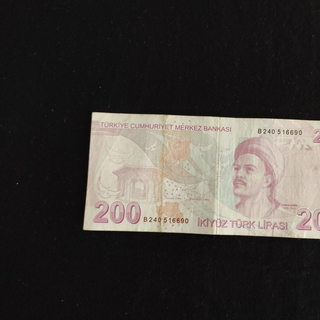200TLBack: (82, 111, 320, 241)
